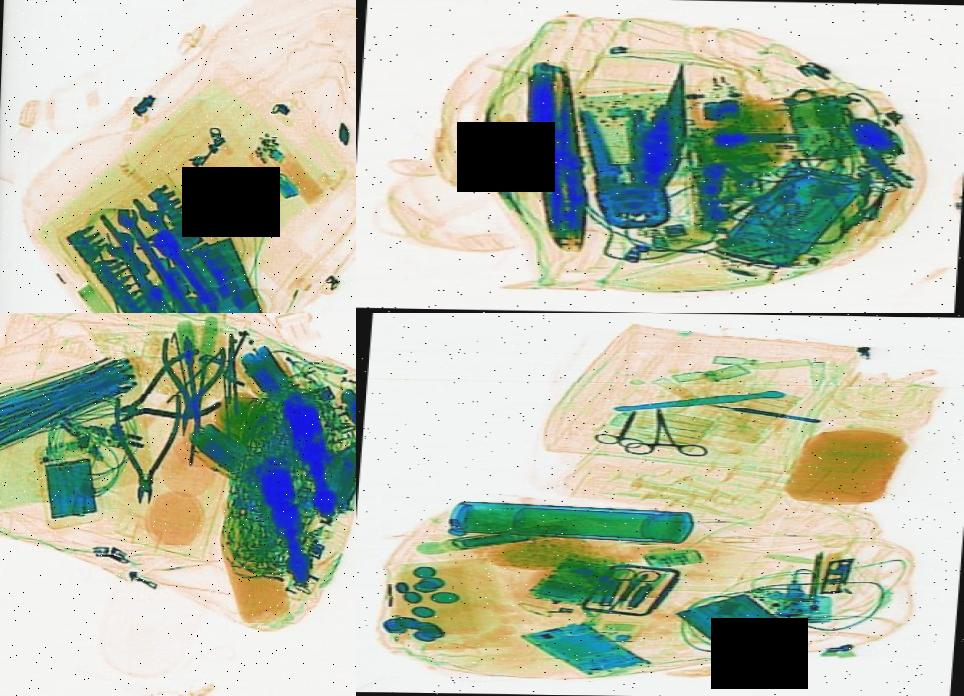Pliers: (557, 60, 707, 231), (85, 344, 242, 444), (143, 334, 233, 466), (106, 392, 183, 504)
Scissors: (609, 403, 710, 462), (588, 563, 659, 611), (587, 405, 657, 450)
Wrench: (105, 200, 217, 313), (94, 223, 197, 313)
